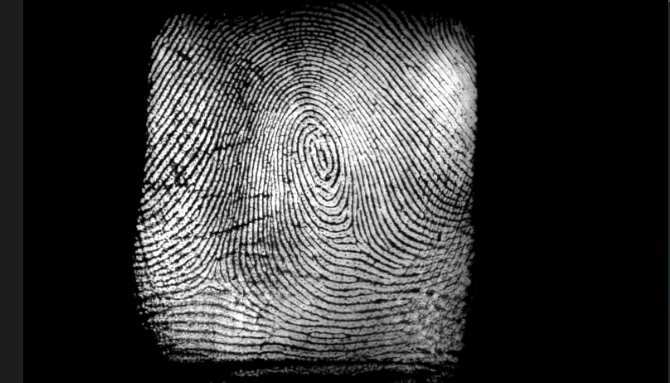deltas: (188, 248, 240, 297), (331, 215, 378, 257)
nucleo: (299, 126, 336, 173)
